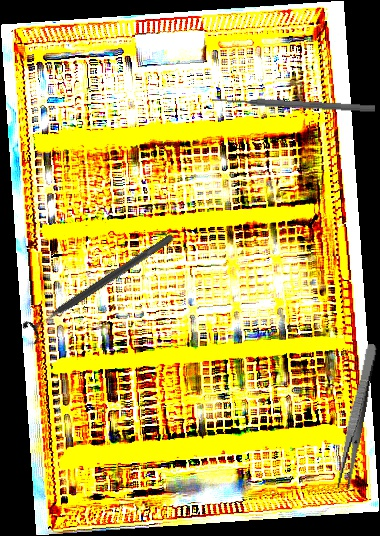Dressing Forceps: (335, 342, 379, 491)
Fixation Ring: (19, 225, 181, 346)
Pusher: (211, 94, 376, 114)
